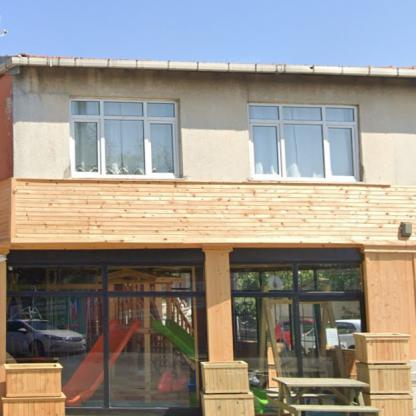window: (4, 262, 201, 410), (230, 259, 365, 377), (248, 103, 358, 181), (70, 99, 176, 174)
